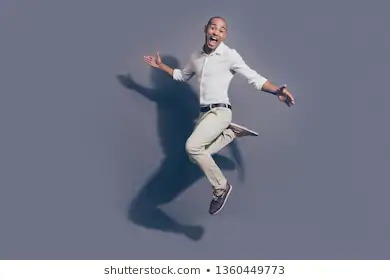F_belt: (199, 102, 235, 112)
F_shirt: (167, 43, 269, 105)
